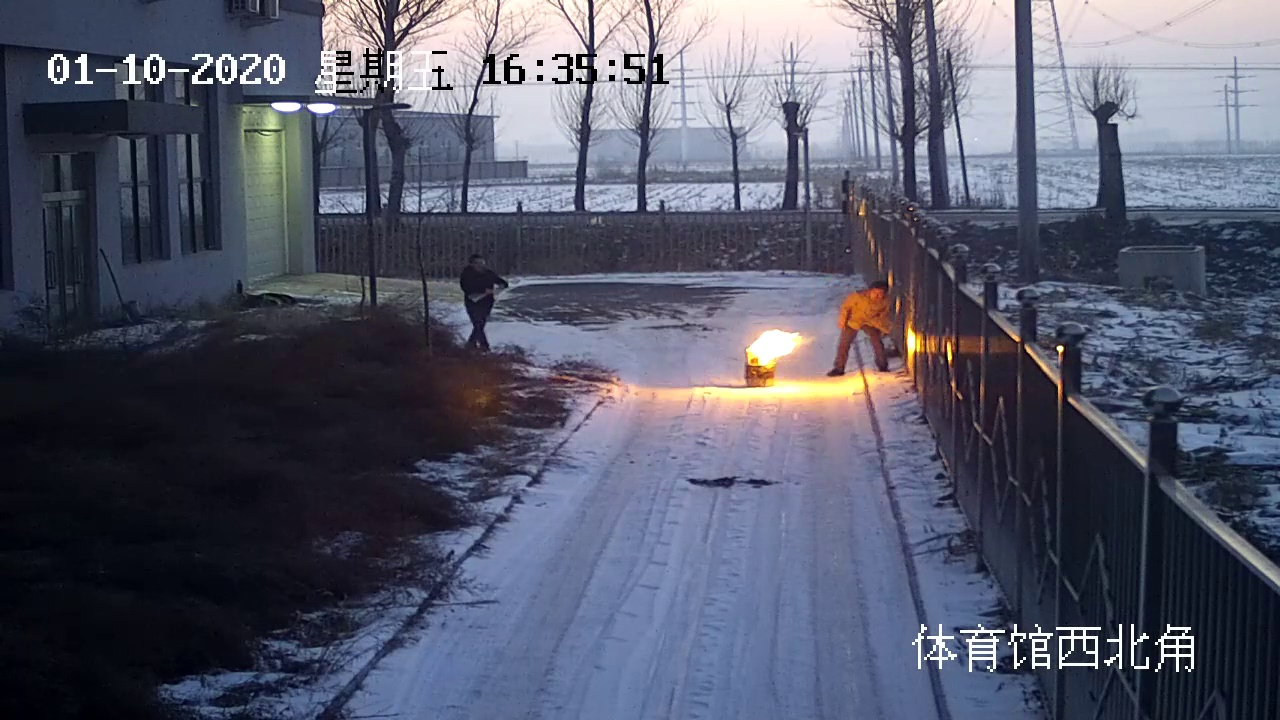fire: (738, 322, 813, 370)
